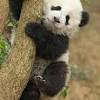panda: (20, 0, 87, 94)
